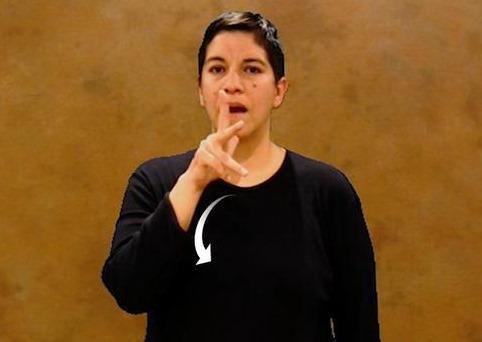H: (170, 83, 266, 274)
